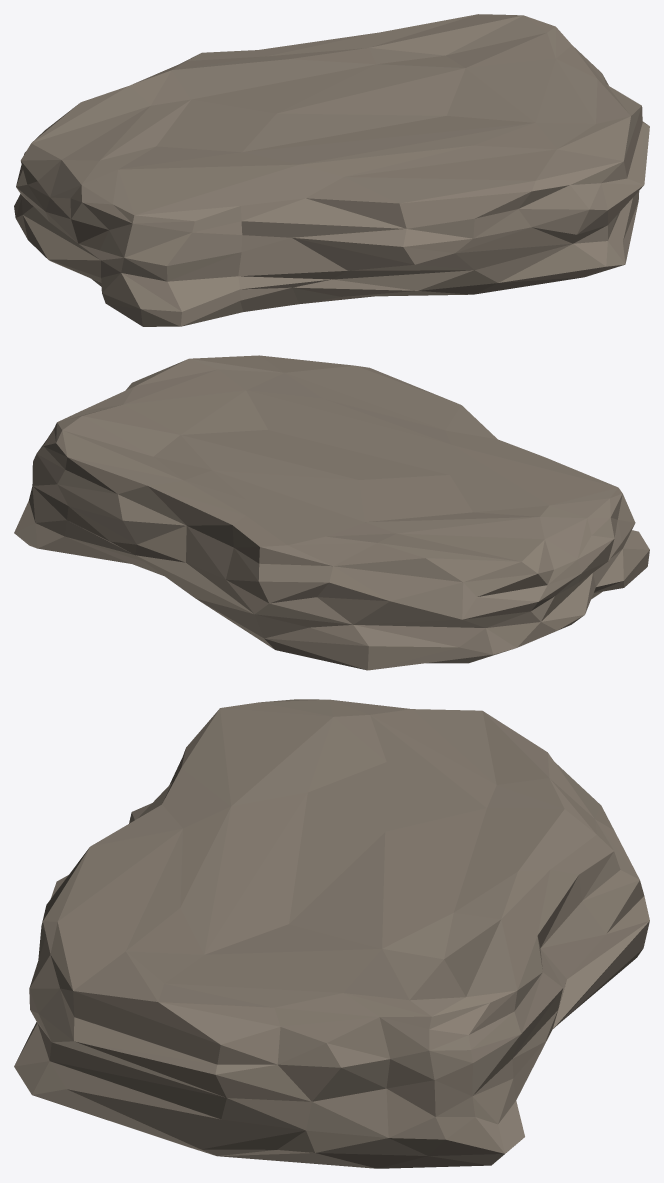
Rendered from SM_Env_Rock_Flat_02.fbx.
3 renders of one model, top to bottom at view 1: azimuth 30°, elevation 25°; view 2: azimuth 150°, elevation 25°; view 3: azimuth 270°, elevation 25°, orthographic. The views are drawn at different scales.
Parts seen in each view (by area): view 1: SM_Env_Rock_Flat_02; view 2: SM_Env_Rock_Flat_02; view 3: SM_Env_Rock_Flat_02.
Part boxes in pixels (x1,y1,x2,y2): SM_Env_Rock_Flat_02: (14, 14, 649, 326); SM_Env_Rock_Flat_02: (14, 355, 649, 670); SM_Env_Rock_Flat_02: (14, 699, 649, 1168).
Bounding box in the file's own units: 1531 × 322 × 1184.
